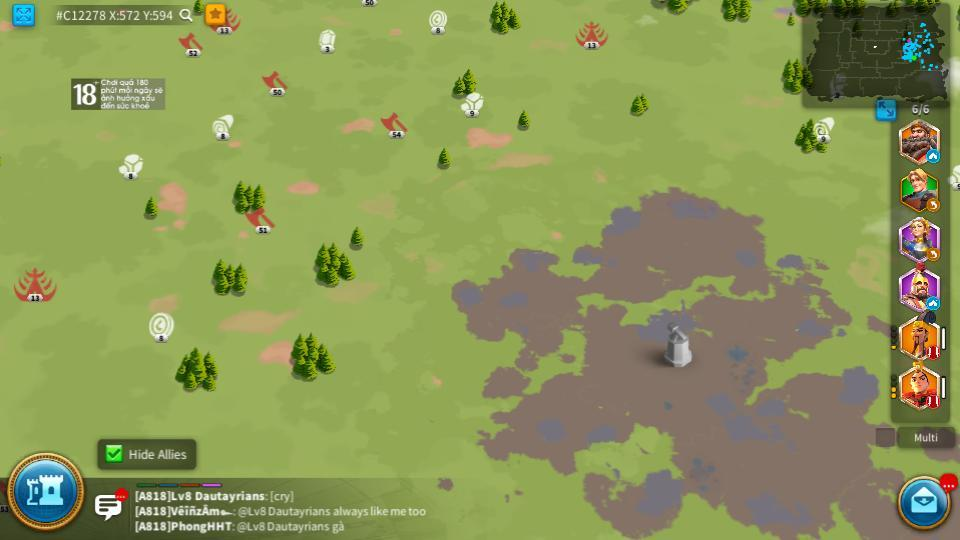gem-z-out: (317, 29, 335, 51)
march_attacking: (924, 395, 939, 407), (925, 354, 937, 361)
march_idle: (926, 151, 940, 162), (925, 297, 938, 307)
march_returning: (926, 248, 941, 260), (927, 201, 941, 212)
